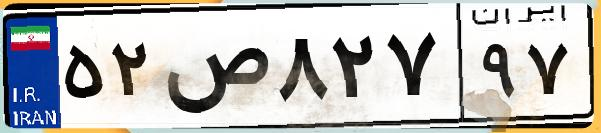2: (330, 28, 385, 110), (110, 28, 158, 98)
5: (57, 26, 110, 100)
7: (385, 28, 445, 110), (525, 38, 570, 115)
8: (270, 28, 330, 110)
9: (475, 38, 525, 113)
ص: (158, 20, 270, 120)
